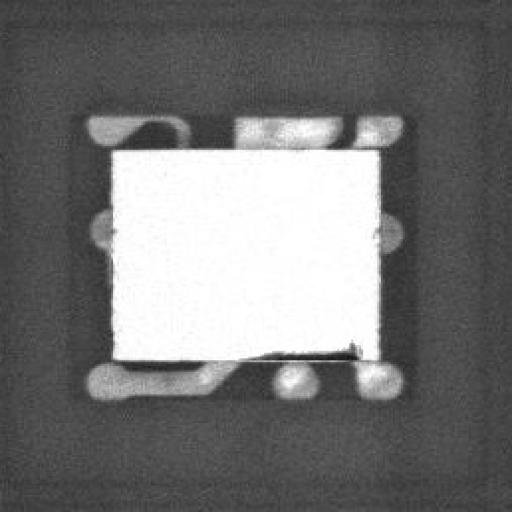DIE_BROKEN: (246, 340, 365, 360)
